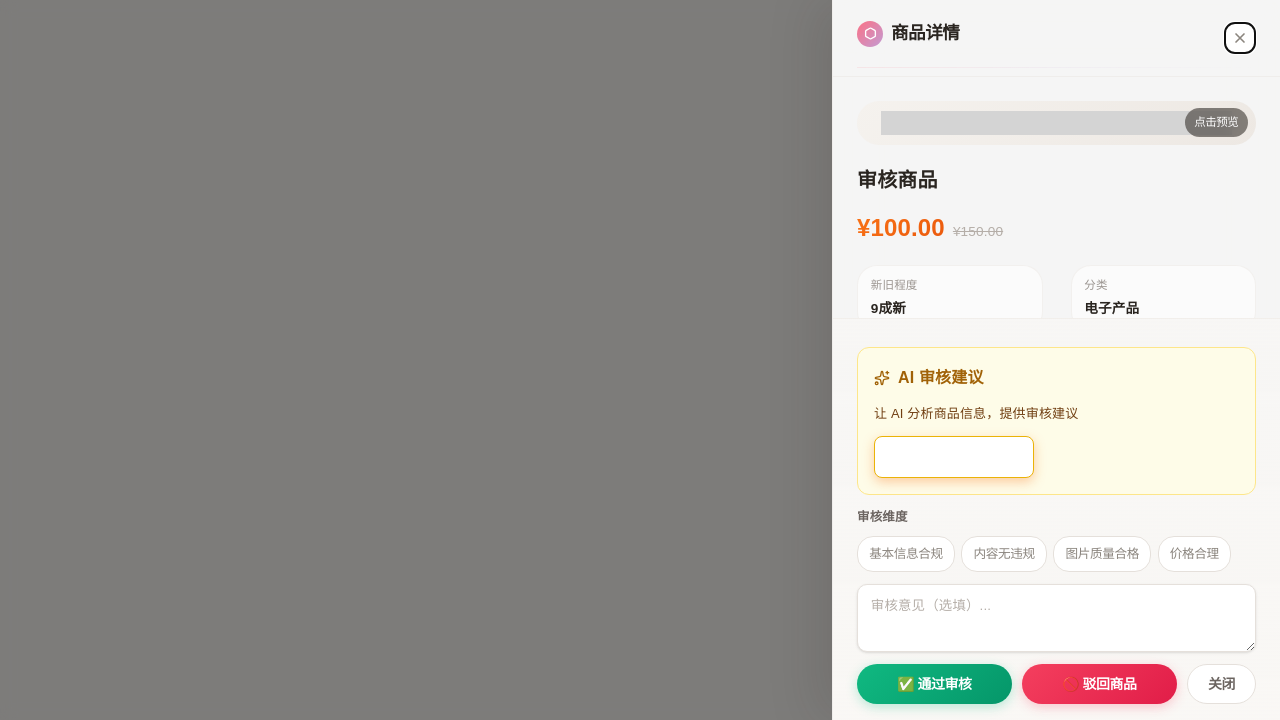
Scenario: ProductDetailDrawer › toggles dimension selection when clicked
The width and height of the screenshot is (1280, 720).
// Click to select
Click the button "基本信息合规".
click(906, 554)  # box [857, 536, 955, 572]
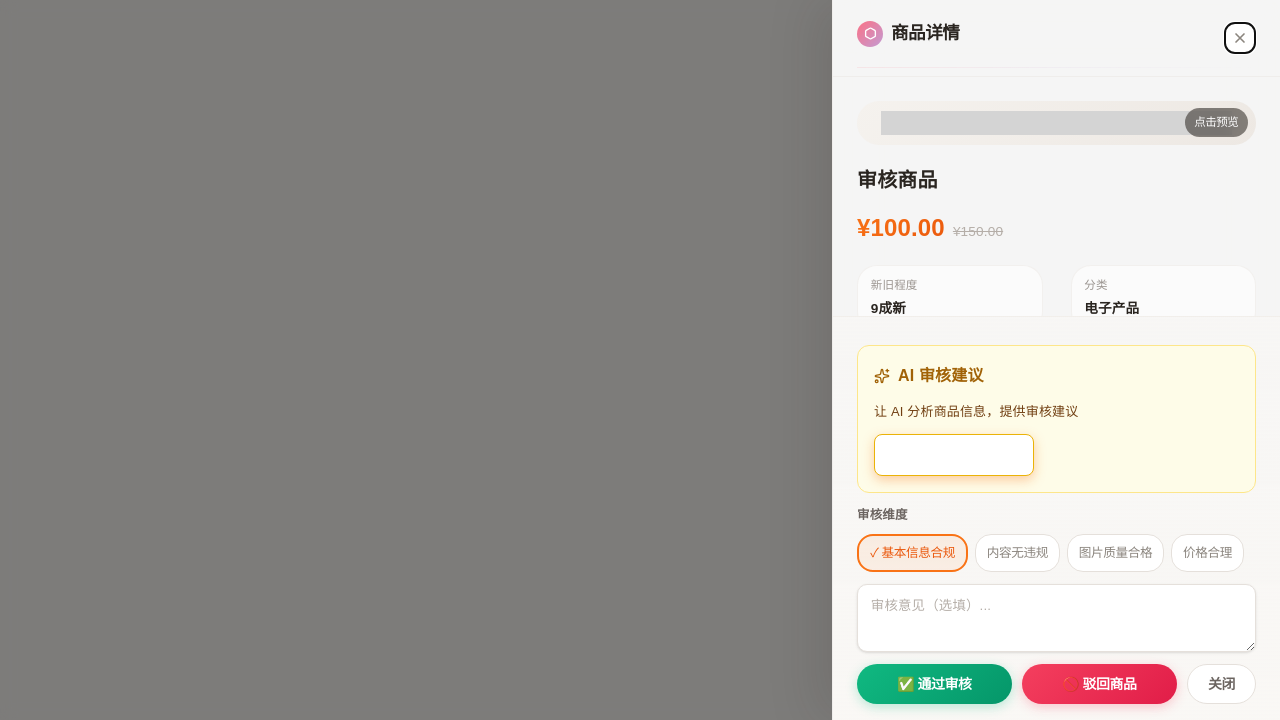
Check: the button "✓ 基本信息合规" is shown
// Click again to deselect
Click the button "✓ 基本信息合规".
click(913, 553)  # box [857, 534, 968, 572]
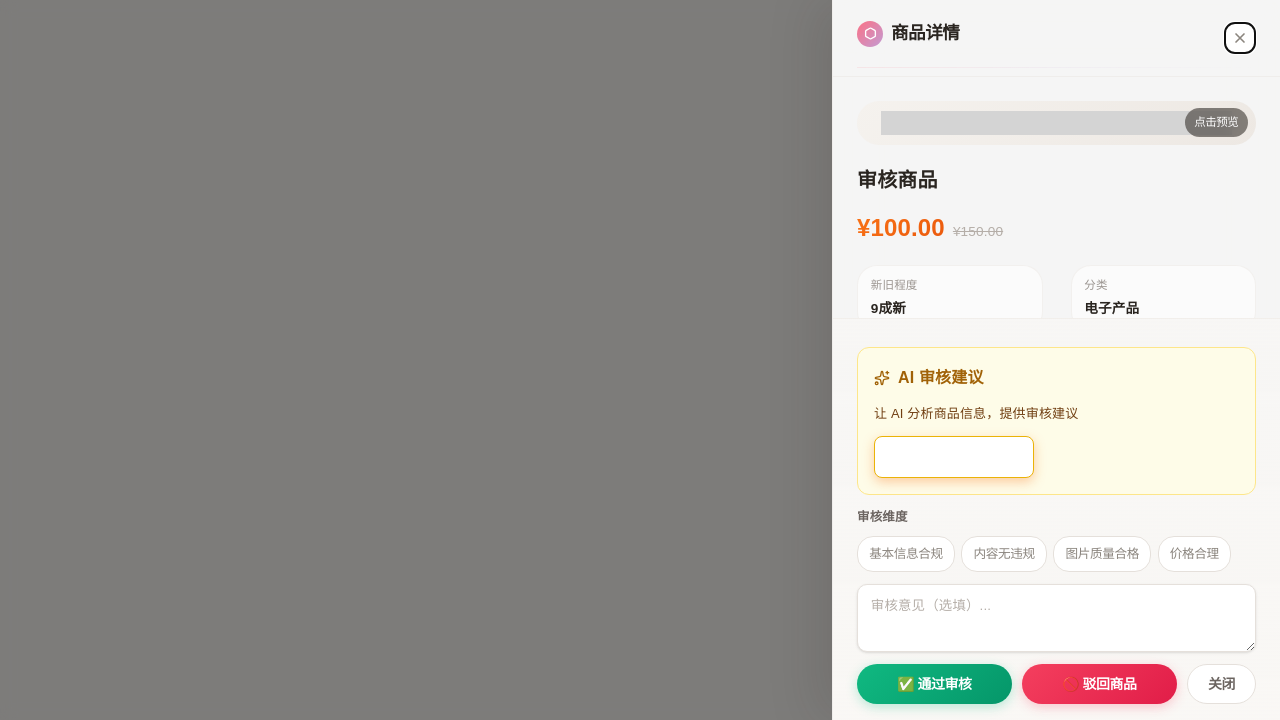
Check: the button "基本信息合规" is shown, box [857, 536, 955, 572]
